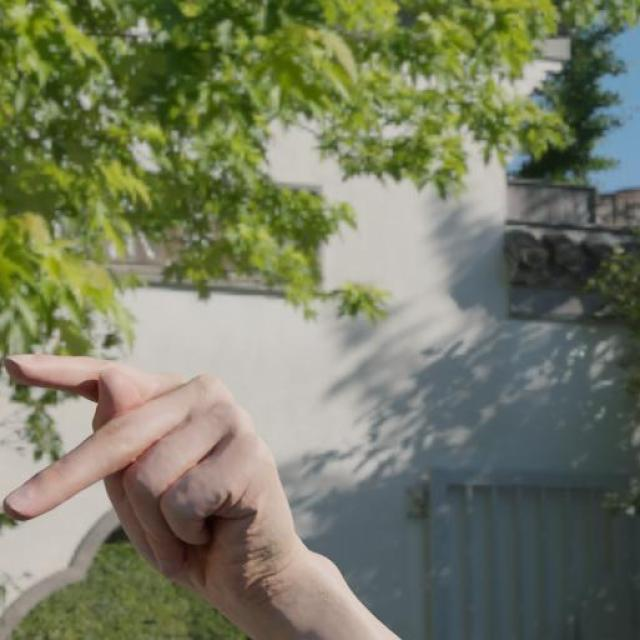P: (3, 348, 290, 600)
